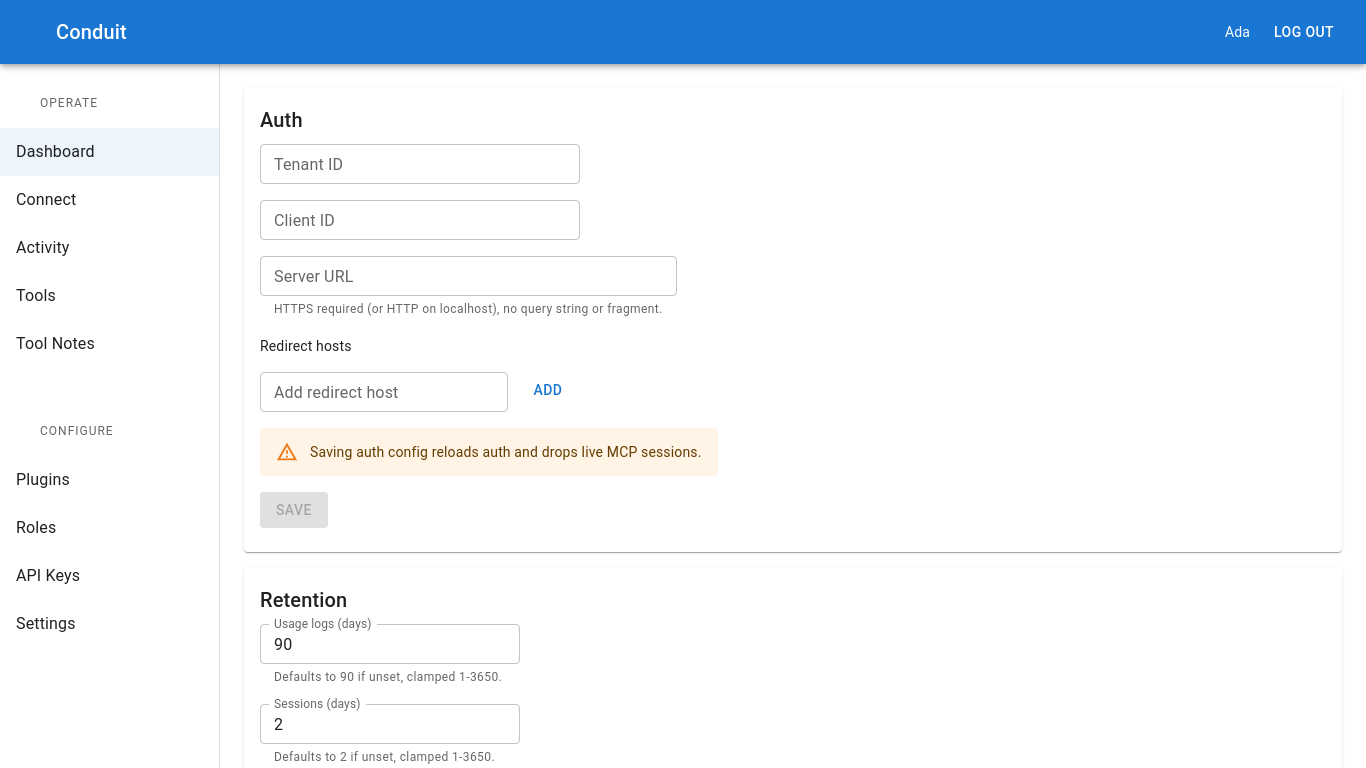
Test case: settings page › redirectHosts accepts a fully qualified host and localhost
Type "claude.ai" into the field labelled "Add redirect host". click: (384, 392)
box: x1=260 y1=372 x2=508 y2=412
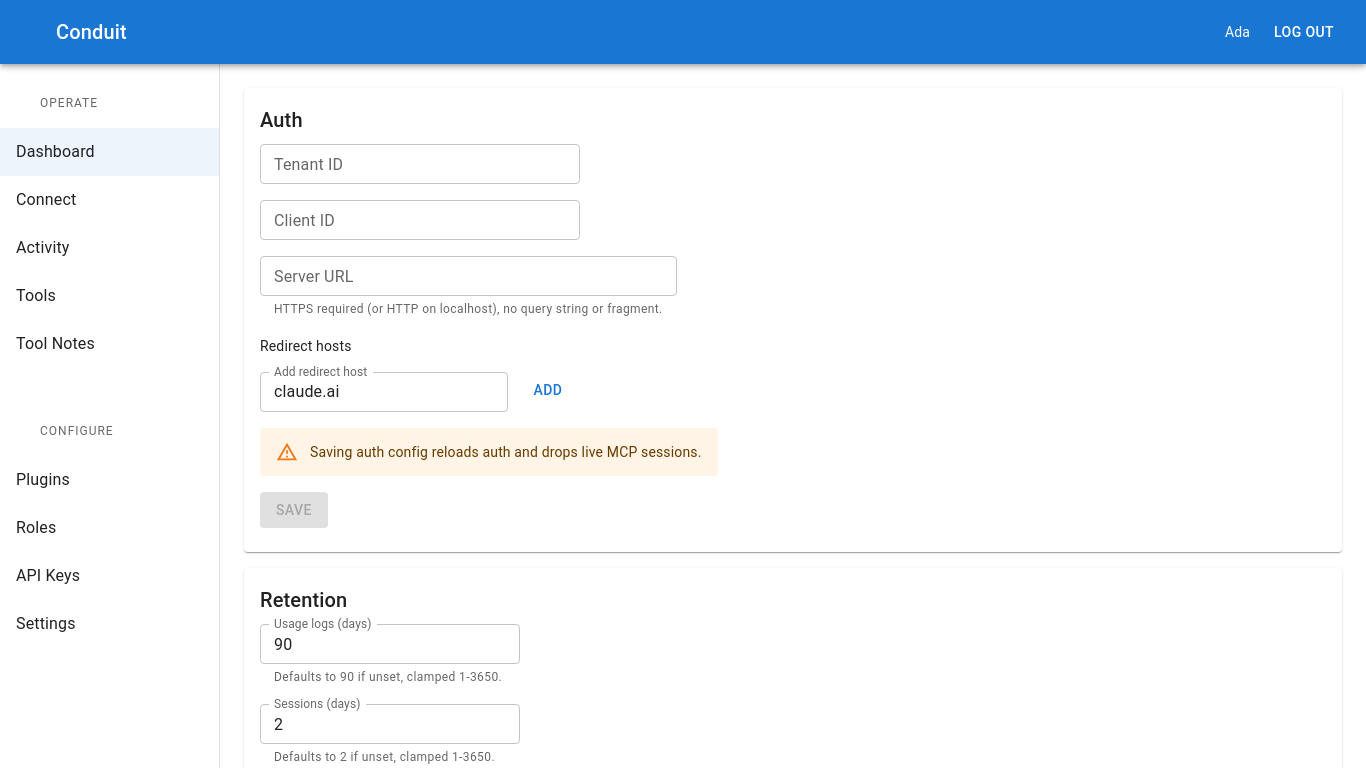
Click the button "Add". click: click(548, 390)
box: x1=516 y1=372 x2=580 y2=408
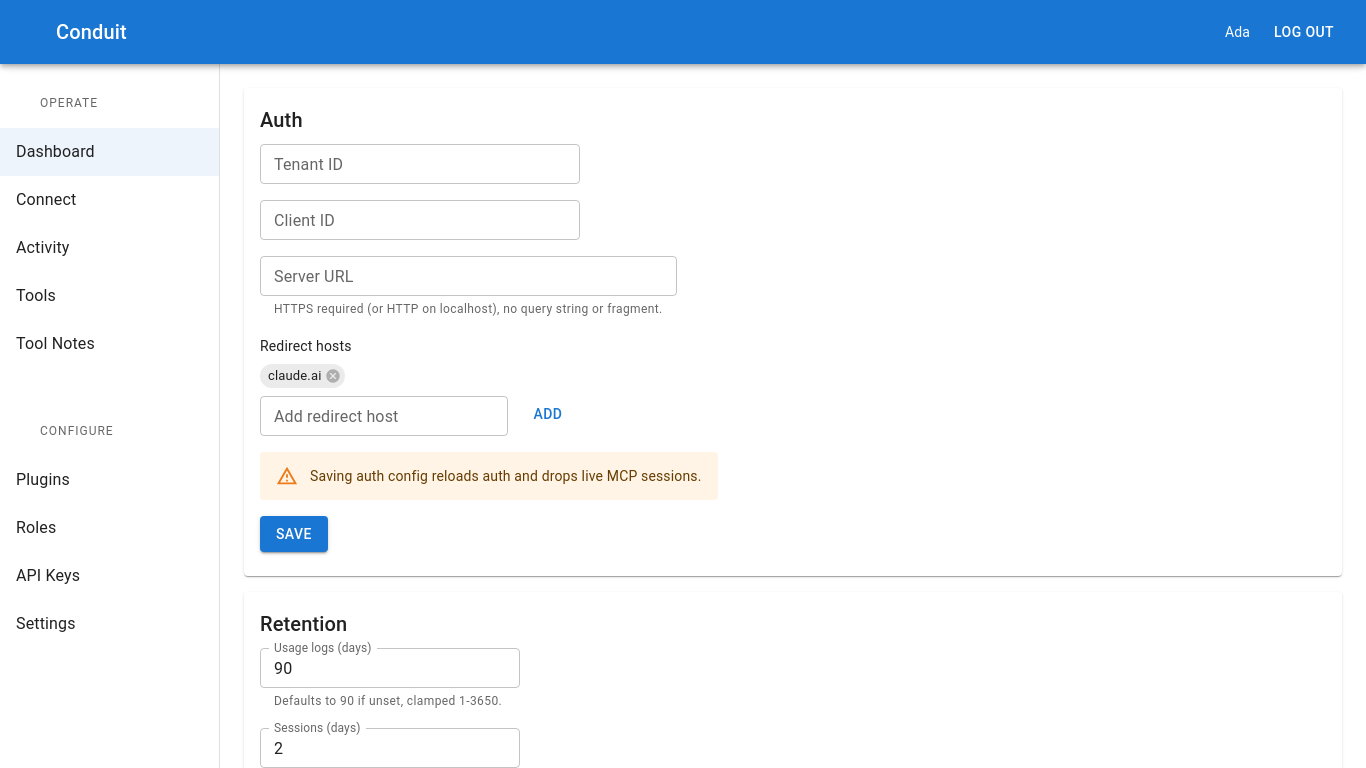
Type "localhost" into the field labelled "Add redirect host". click: (384, 416)
box: x1=260 y1=396 x2=508 y2=436
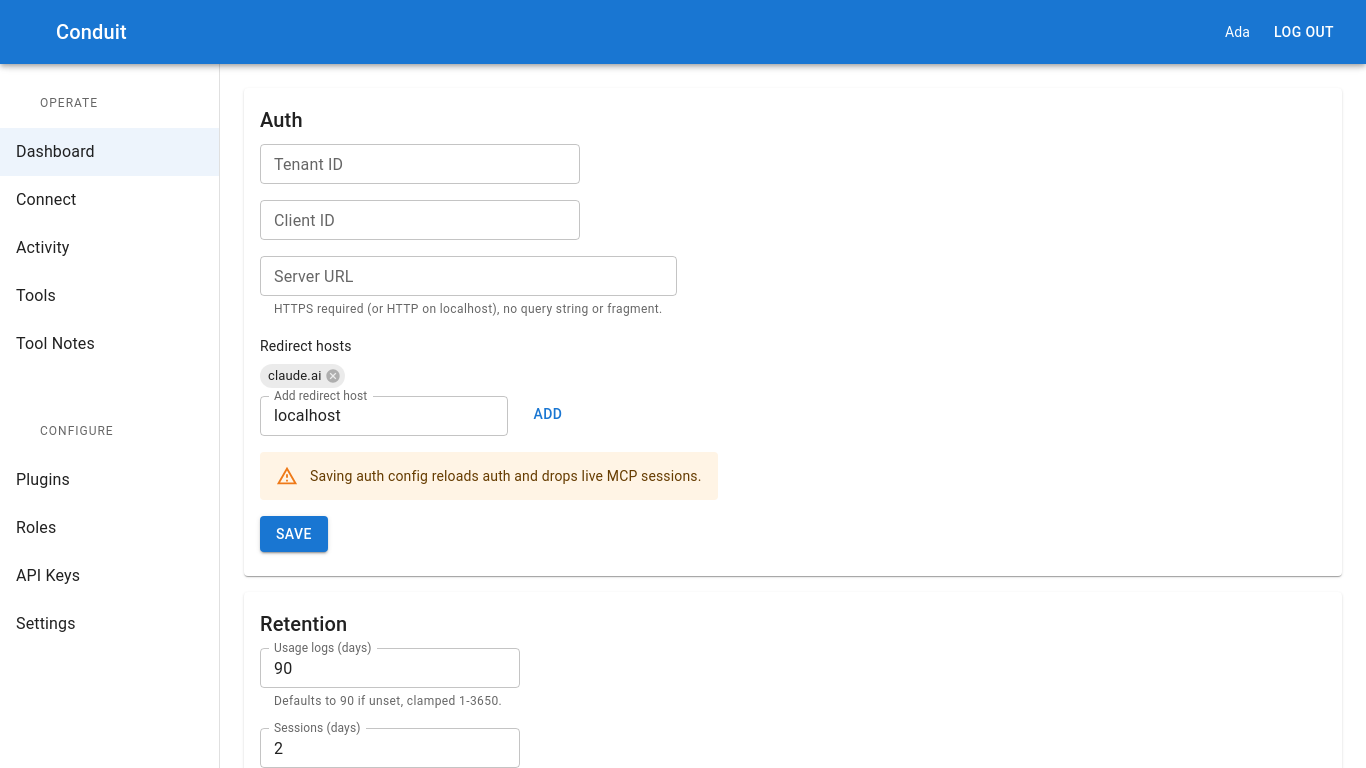
Click the button "Add". click: click(548, 414)
box: x1=516 y1=396 x2=580 y2=432
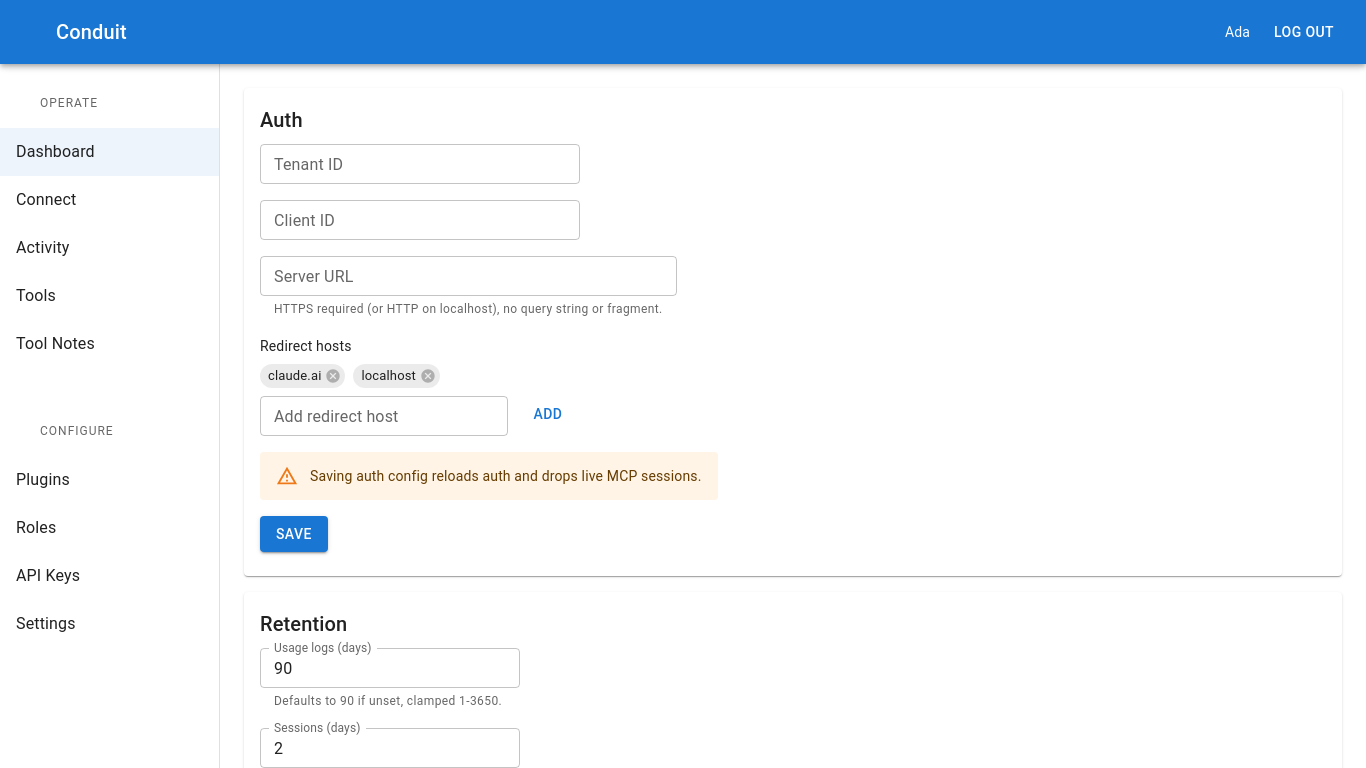
Check: the text "claude.ai" is shown, box x1=268 y1=368 x2=322 y2=383
Check: the text "localhost" is shown, box x1=362 y1=368 x2=416 y2=383
